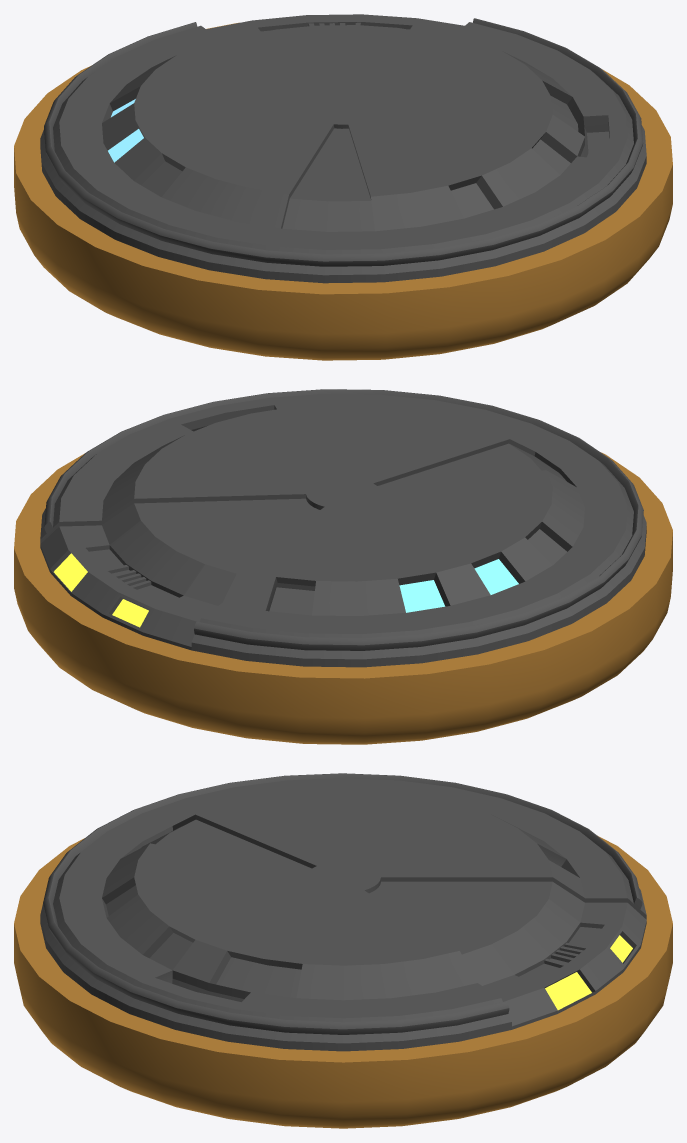
Rendered from CyberBurger DOWN.fbx.
The picture shows the model from 3 angles, top to bottom: view 1: azimuth 30°, elevation 25°; view 2: azimuth 150°, elevation 25°; view 3: azimuth 270°, elevation 25°; orthographic projection.
Parts seen in each view (by area): view 1: Burger Bread Down A; view 2: Burger Bread Down A; view 3: Burger Bread Down A.
Part boxes in pixels (box(x1,y1,x2,y2)): Burger Bread Down A: box(14, 14, 672, 360); Burger Bread Down A: box(14, 389, 672, 744); Burger Bread Down A: box(14, 773, 672, 1128).
Size of the model in its own units: 80.89 by 17.26 by 80.89.
